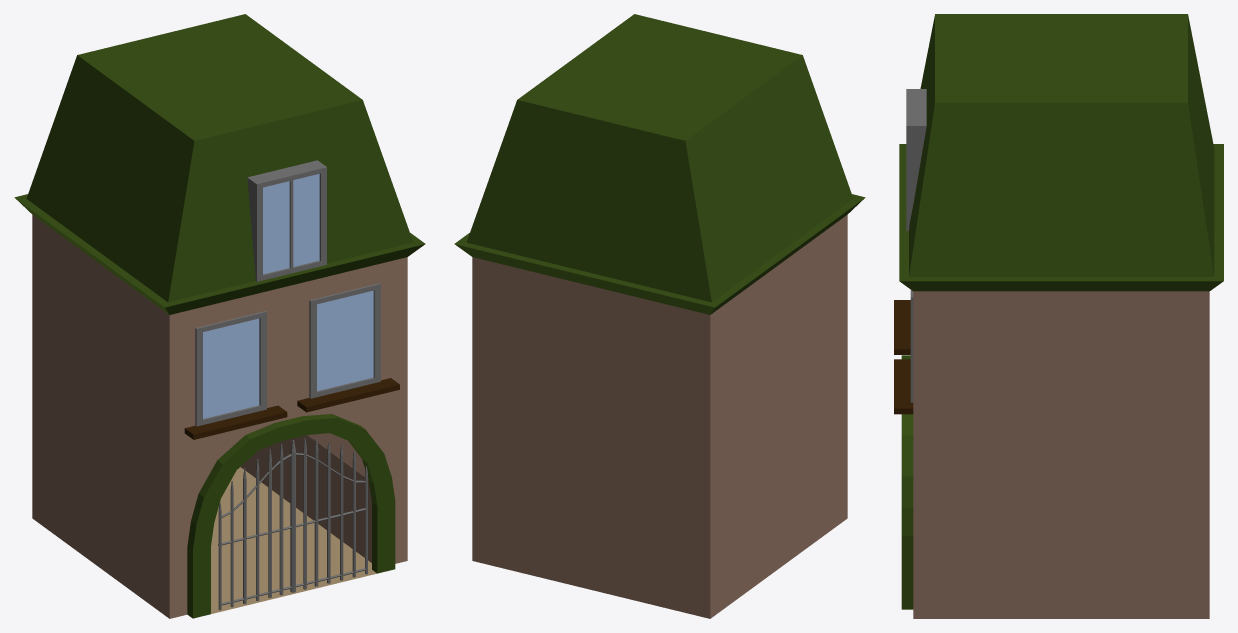
The model's file is House4Lvl1.fbx.
The picture shows the model from 3 angles, left to right: view 1: azimuth 30°, elevation 25°; view 2: azimuth 150°, elevation 25°; view 3: azimuth 270°, elevation 25°; orthographic projection. The views are drawn at different scales.
Visible parts, largest first — view 1: House4Lvl1; view 2: House4Lvl1; view 3: House4Lvl1.
Part boxes in pixels (x1,y1,x2,y2): House4Lvl1: (14,14,425,618); House4Lvl1: (454,14,865,618); House4Lvl1: (894,14,1223,618).
Bounding box in the file's own units: 76.54 × 130 × 77.75.
